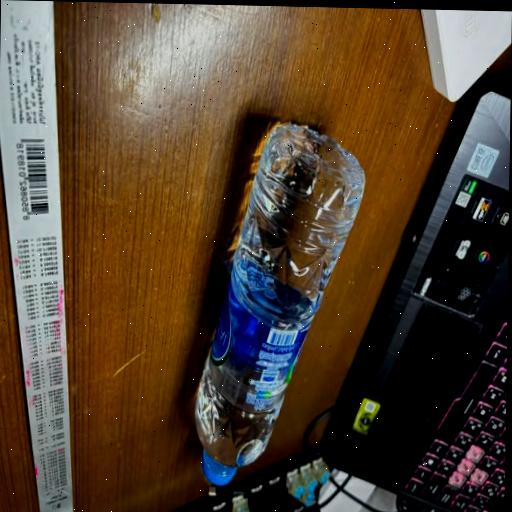bottle: (161, 97, 393, 512)
